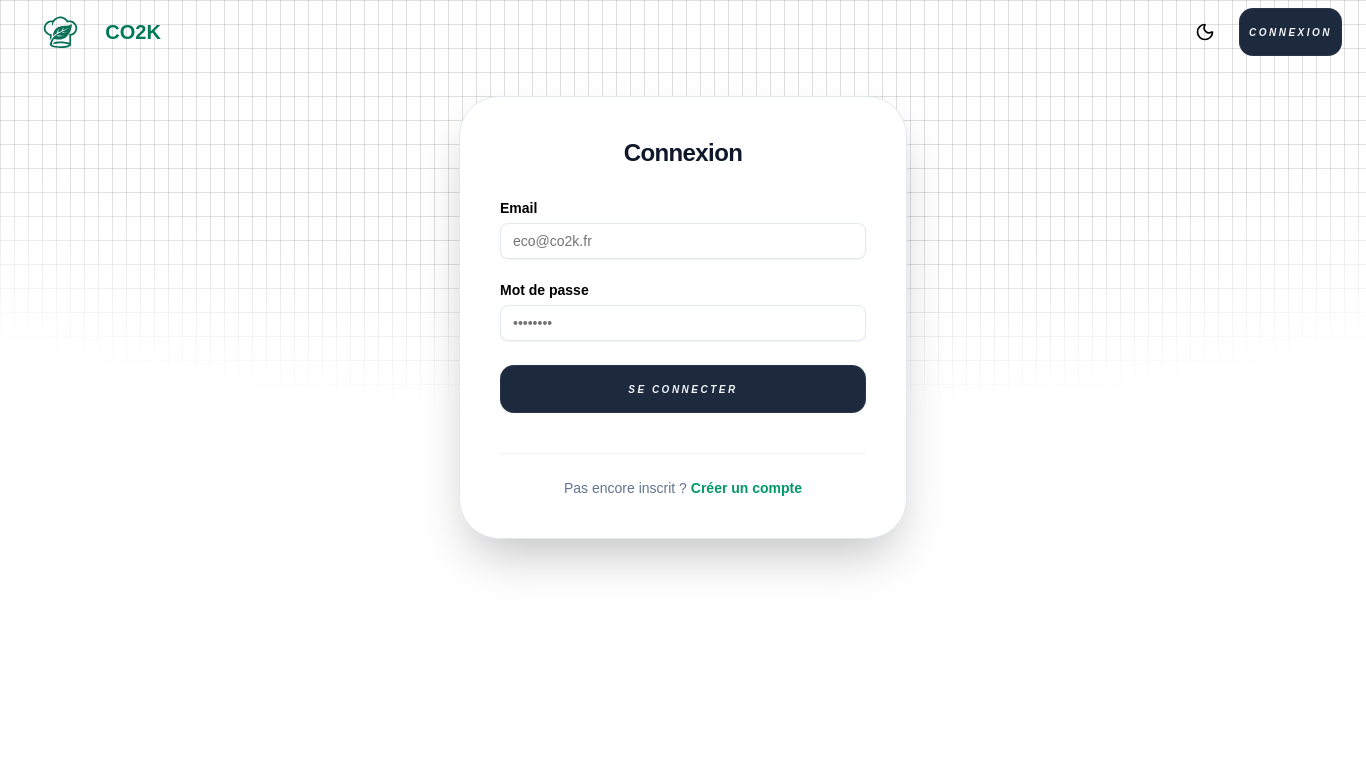
Test Connexion › Mauvais identifiants
Type "test@test.fr" into the field named "email". click: (683, 241)
box: [500,223,866,259]
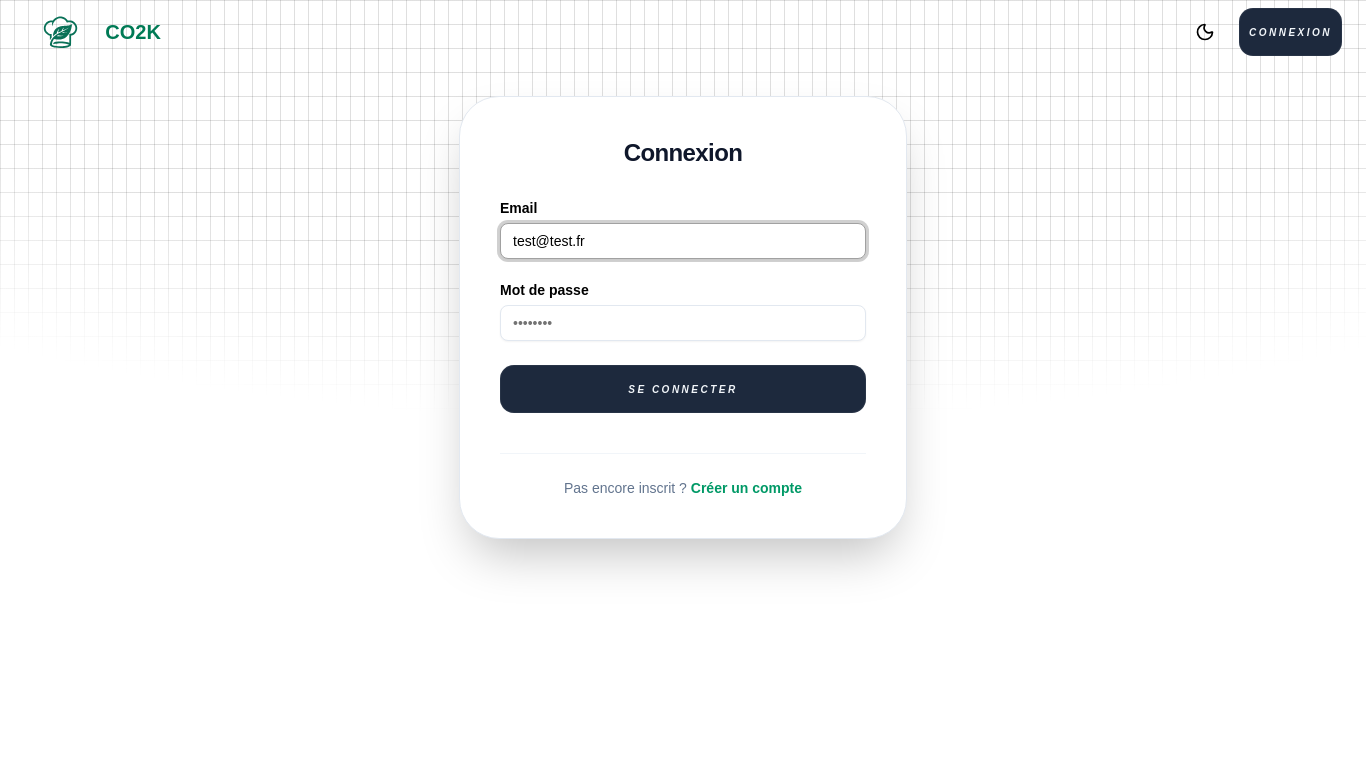
Type "password" into the password field named "password". click: (683, 323)
box: [500,305,866,341]
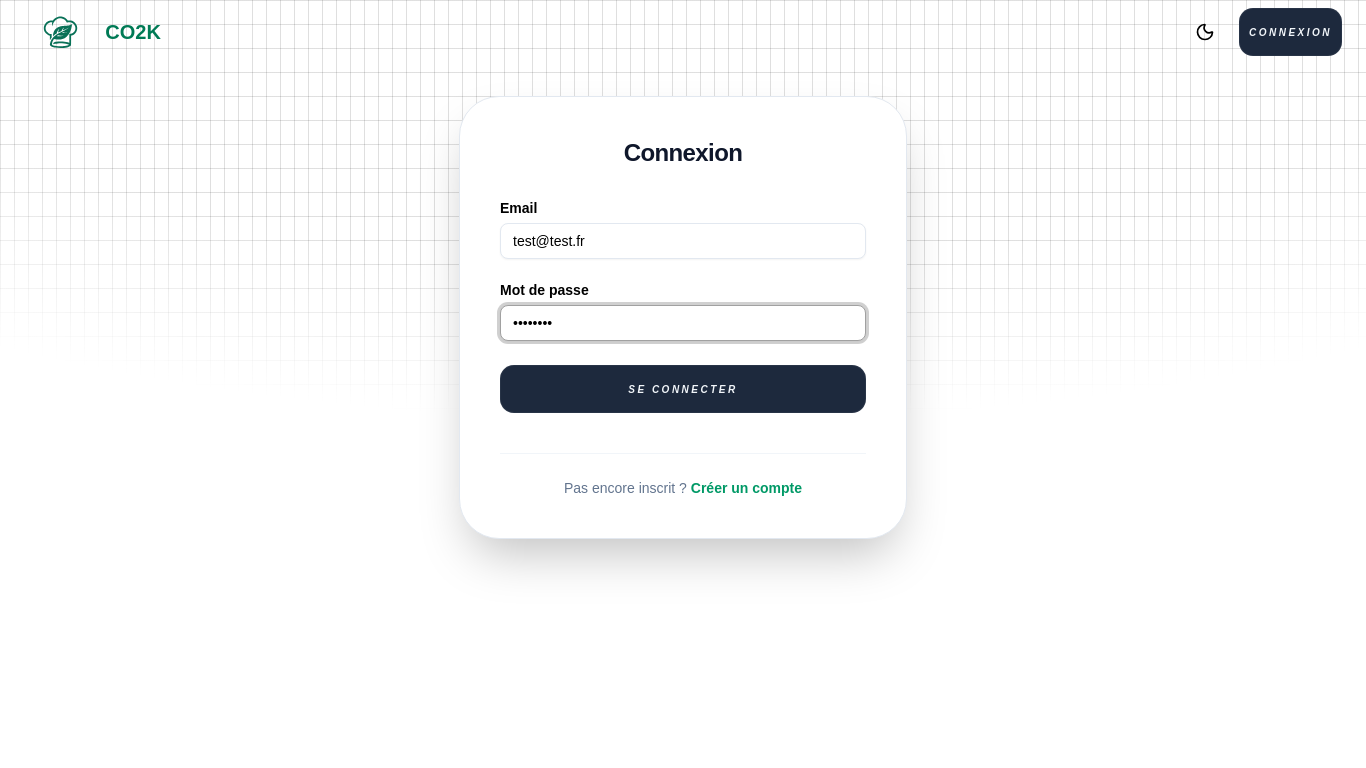
Click the submit button. click: (683, 389)
box: [500,365,866,413]
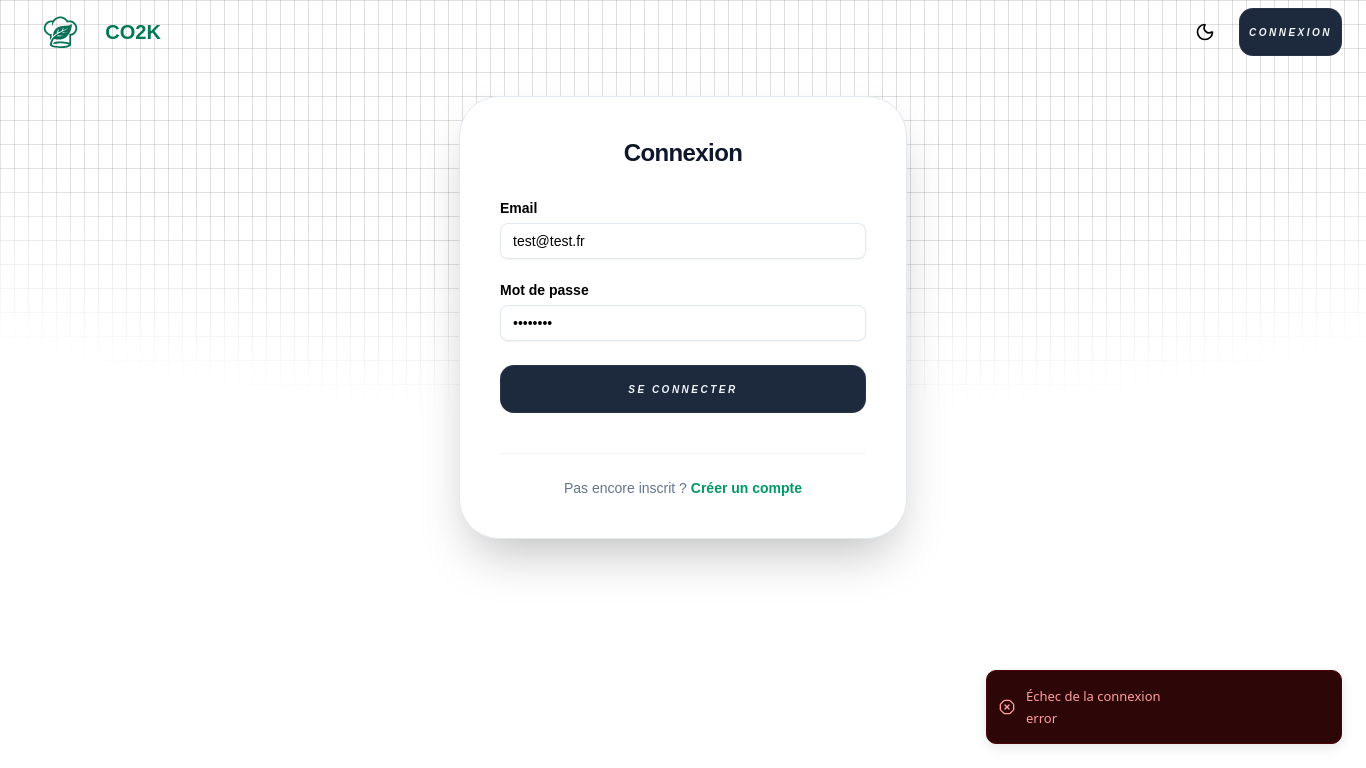
Expected: the text "Échec de la connexion" is shown, [1026,687,1161,707]
